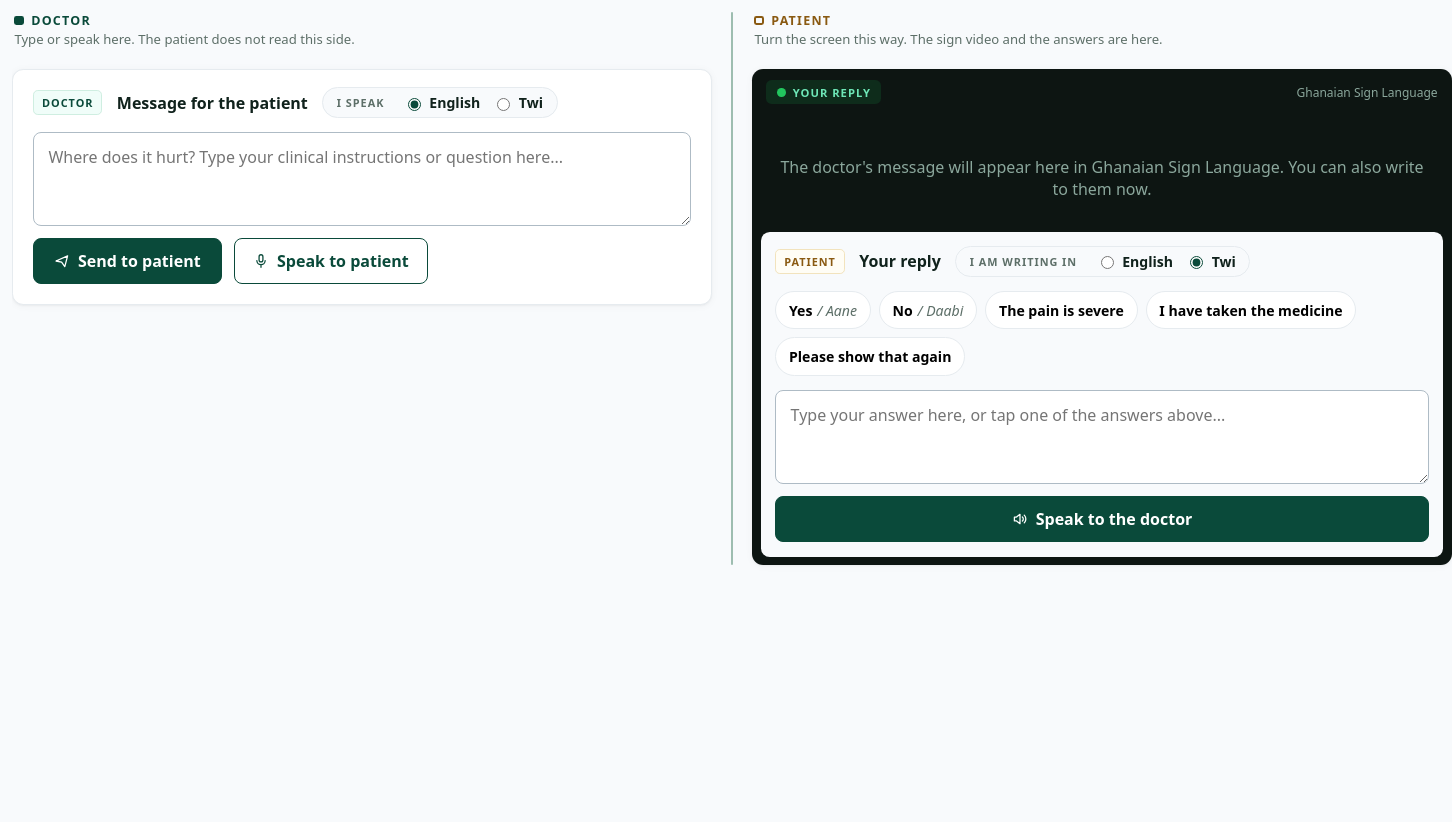
Test: DoctorConsultation › refuses a sentence with a word that can be neither signed nor spelled
Type "nausea" into the text box named "message for the patient" at point(362, 179), box [33, 132, 691, 226]
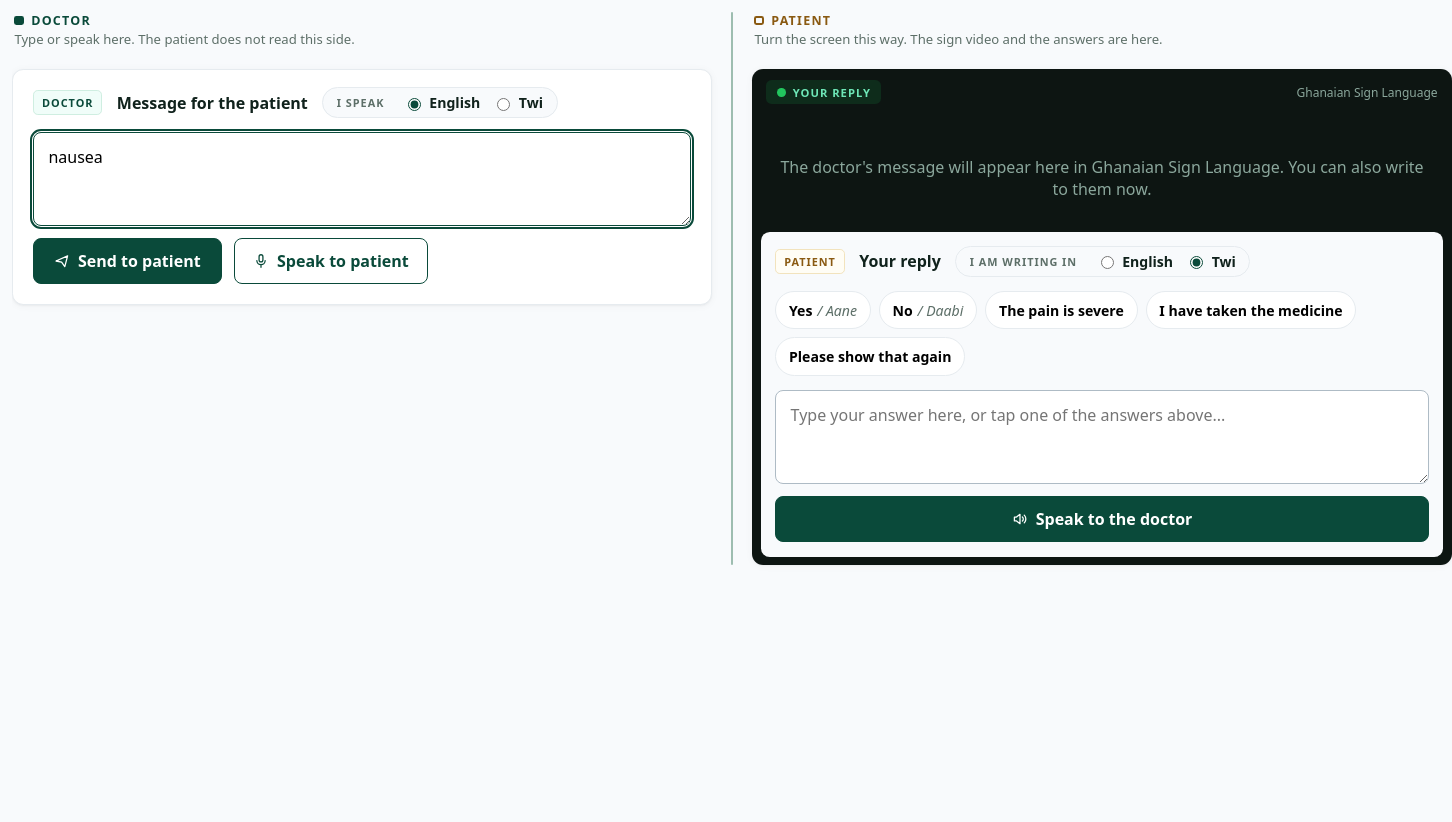
Click the button "Send to patient" at point(127, 261), box [33, 238, 222, 284]
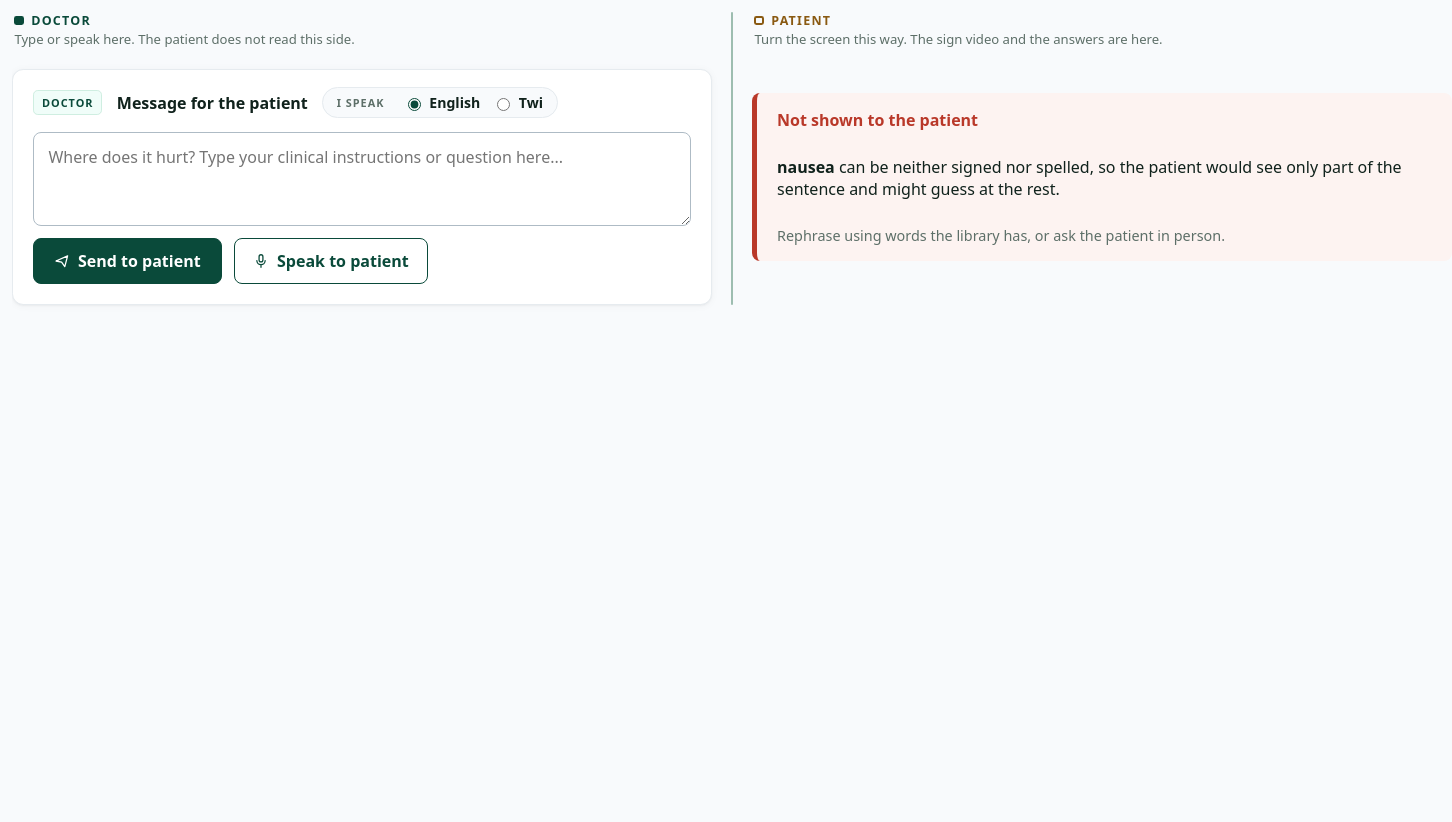
Result: the element with test id "refused-missing" shows "nausea" at [777, 156, 835, 178]
